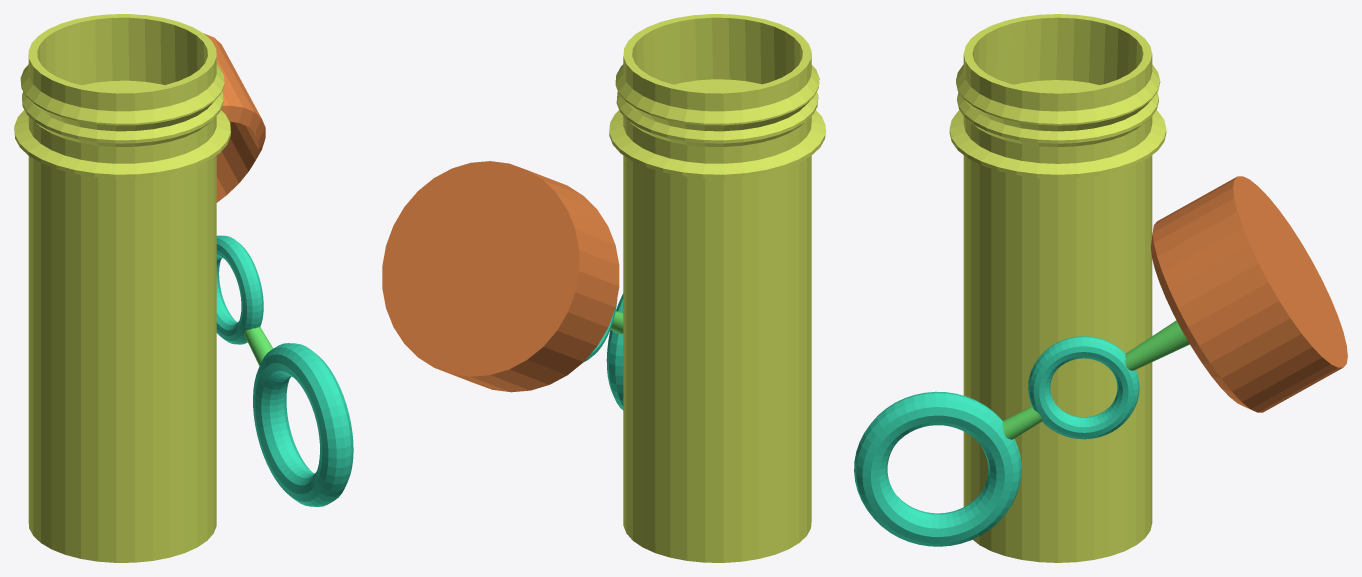
The model's file is FireRate.fbx.
3 views of the same model, side by side, from view 1: azimuth 30°, elevation 25°; view 2: azimuth 150°, elevation 25°; view 3: azimuth 270°, elevation 25° (orthographic).
Parts seen in each view (by area): view 1: Cylinder.001; view 2: Cylinder.001; view 3: Cylinder.001.
Part boxes in pixels (bbox=[...]): Cylinder.001: bbox=[14, 14, 353, 562]; Cylinder.001: bbox=[382, 14, 825, 562]; Cylinder.001: bbox=[854, 14, 1347, 562].
Bounding box in the file's own units: 379 × 549 × 524.
